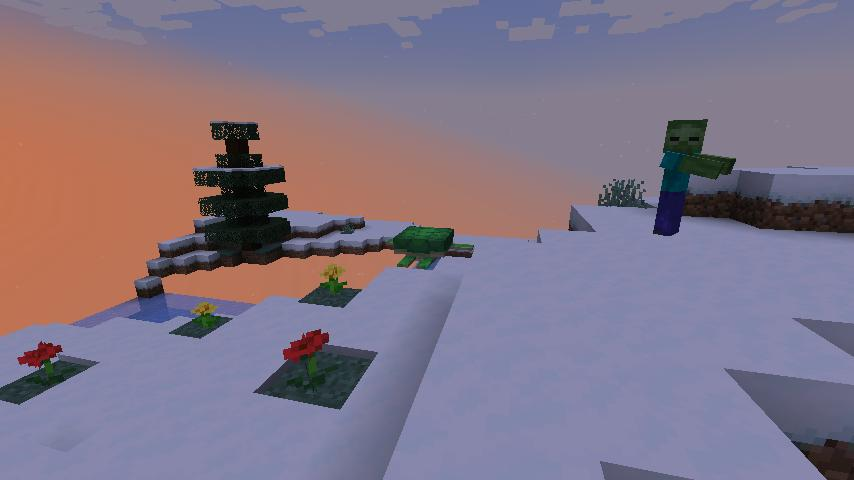turtle: (390, 224, 475, 270)
zombie: (651, 116, 737, 237)
